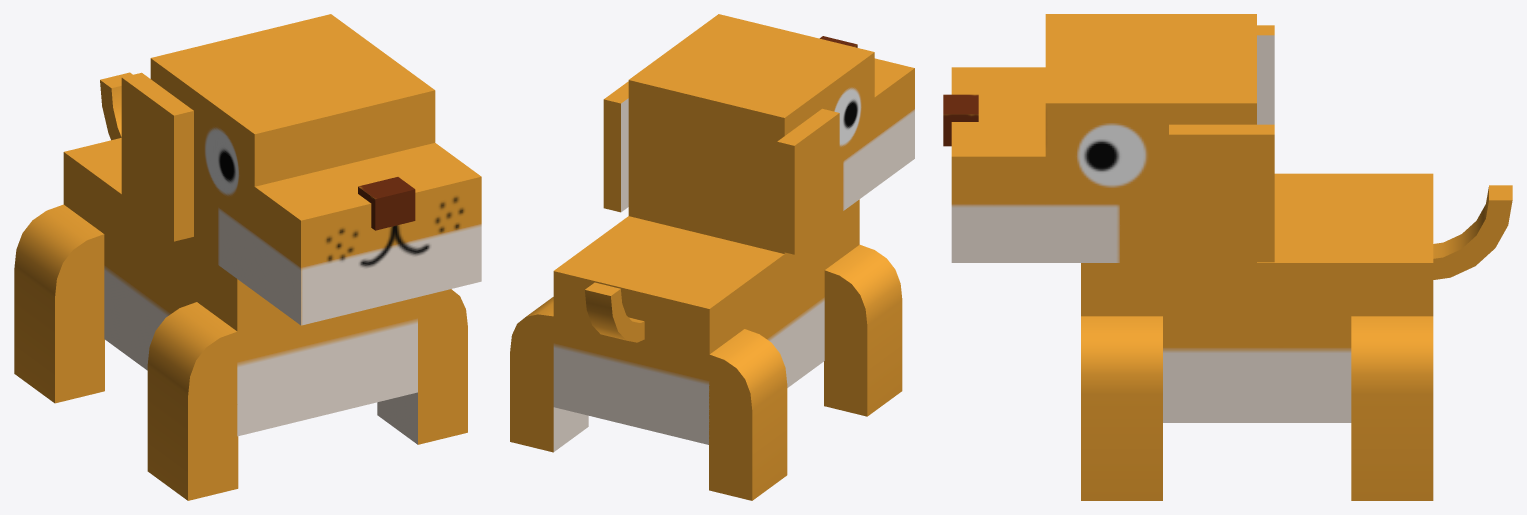
The model's file is dog.FBX.
3 views of the same model, side by side, from view 1: azimuth 30°, elevation 25°; view 2: azimuth 150°, elevation 25°; view 3: azimuth 270°, elevation 25° (orthographic). The views are drawn at different scales.
Parts seen in each view (by area): view 1: Box004, Box001, Box012, Box013, Box009, Box003, Box011, Box010; view 2: Box004, Box001, Box012, Box013, Box009, Box006, Box005, Box010; view 3: Box004, Box001, Box006, Box003, Box005, Box010, Box009, Box011.
Part boxes in pixels (x1=…): Box004: x1=150, y1=14, x2=481, y2=325; Box001: x1=63, y1=138, x2=417, y2=436; Box012: x1=147, y1=302, x2=238, y2=500; Box013: x1=14, y1=204, x2=104, y2=403; Box009: x1=121, y1=72, x2=193, y2=241; Box003: x1=377, y1=289, x2=467, y2=444; Box011: x1=358, y1=177, x2=415, y2=230; Box010: x1=100, y1=72, x2=132, y2=140; Box004: x1=628, y1=14, x2=914, y2=253; Box001: x1=553, y1=199, x2=859, y2=444; Box012: x1=824, y1=244, x2=902, y2=416; Box013: x1=709, y1=329, x2=787, y2=500; Box009: x1=777, y1=108, x2=839, y2=254; Box006: x1=510, y1=297, x2=588, y2=452; Box005: x1=603, y1=81, x2=628, y2=212; Box010: x1=585, y1=282, x2=644, y2=342; Box004: x1=951, y1=14, x2=1256, y2=262; Box001: x1=1081, y1=173, x2=1433, y2=422; Box006: x1=1351, y1=316, x2=1433, y2=500; Box003: x1=1081, y1=316, x2=1162, y2=500; Box005: x1=1169, y1=124, x2=1274, y2=262; Box010: x1=1433, y1=185, x2=1512, y2=279; Box009: x1=1257, y1=25, x2=1274, y2=124; Box011: x1=943, y1=94, x2=978, y2=146.
Size of the model in its own units: 1099 by 1378 by 1907.
